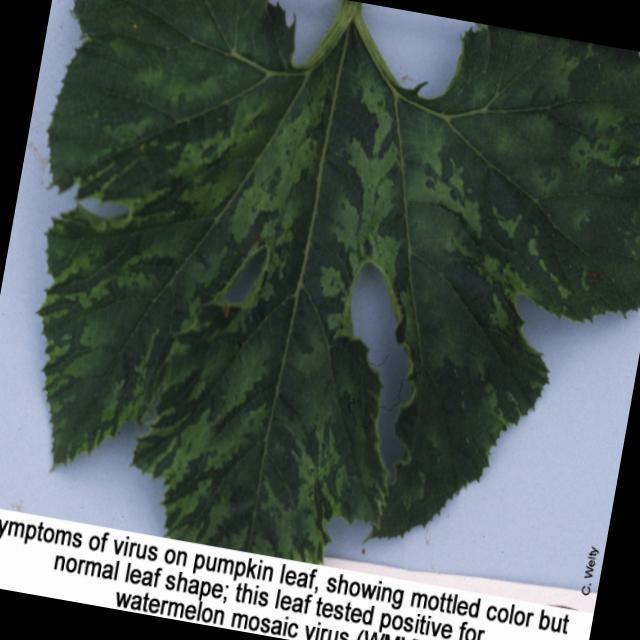Mosaic Virus: (16, 24, 630, 584)
